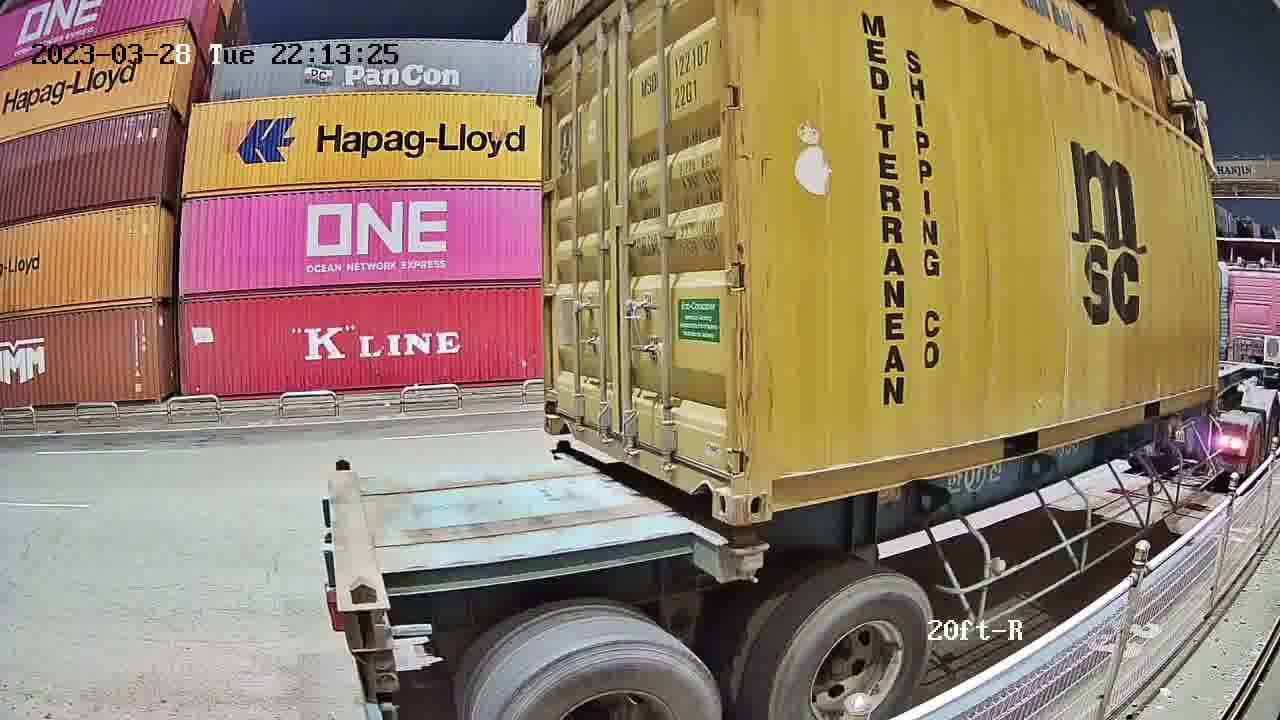Chassis: (552, 449, 769, 584)
Cone: (730, 533, 769, 582), (553, 440, 570, 453)
Hole_L: (736, 447, 802, 524), (544, 387, 577, 440)
Hole_R: (684, 434, 737, 523)
Tire: (770, 575, 933, 708), (496, 636, 721, 713)
